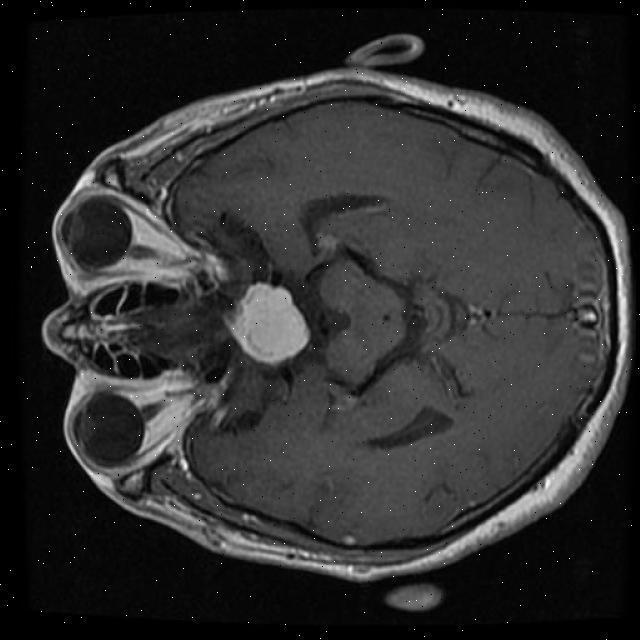Pituitary: (226, 282, 310, 366)
